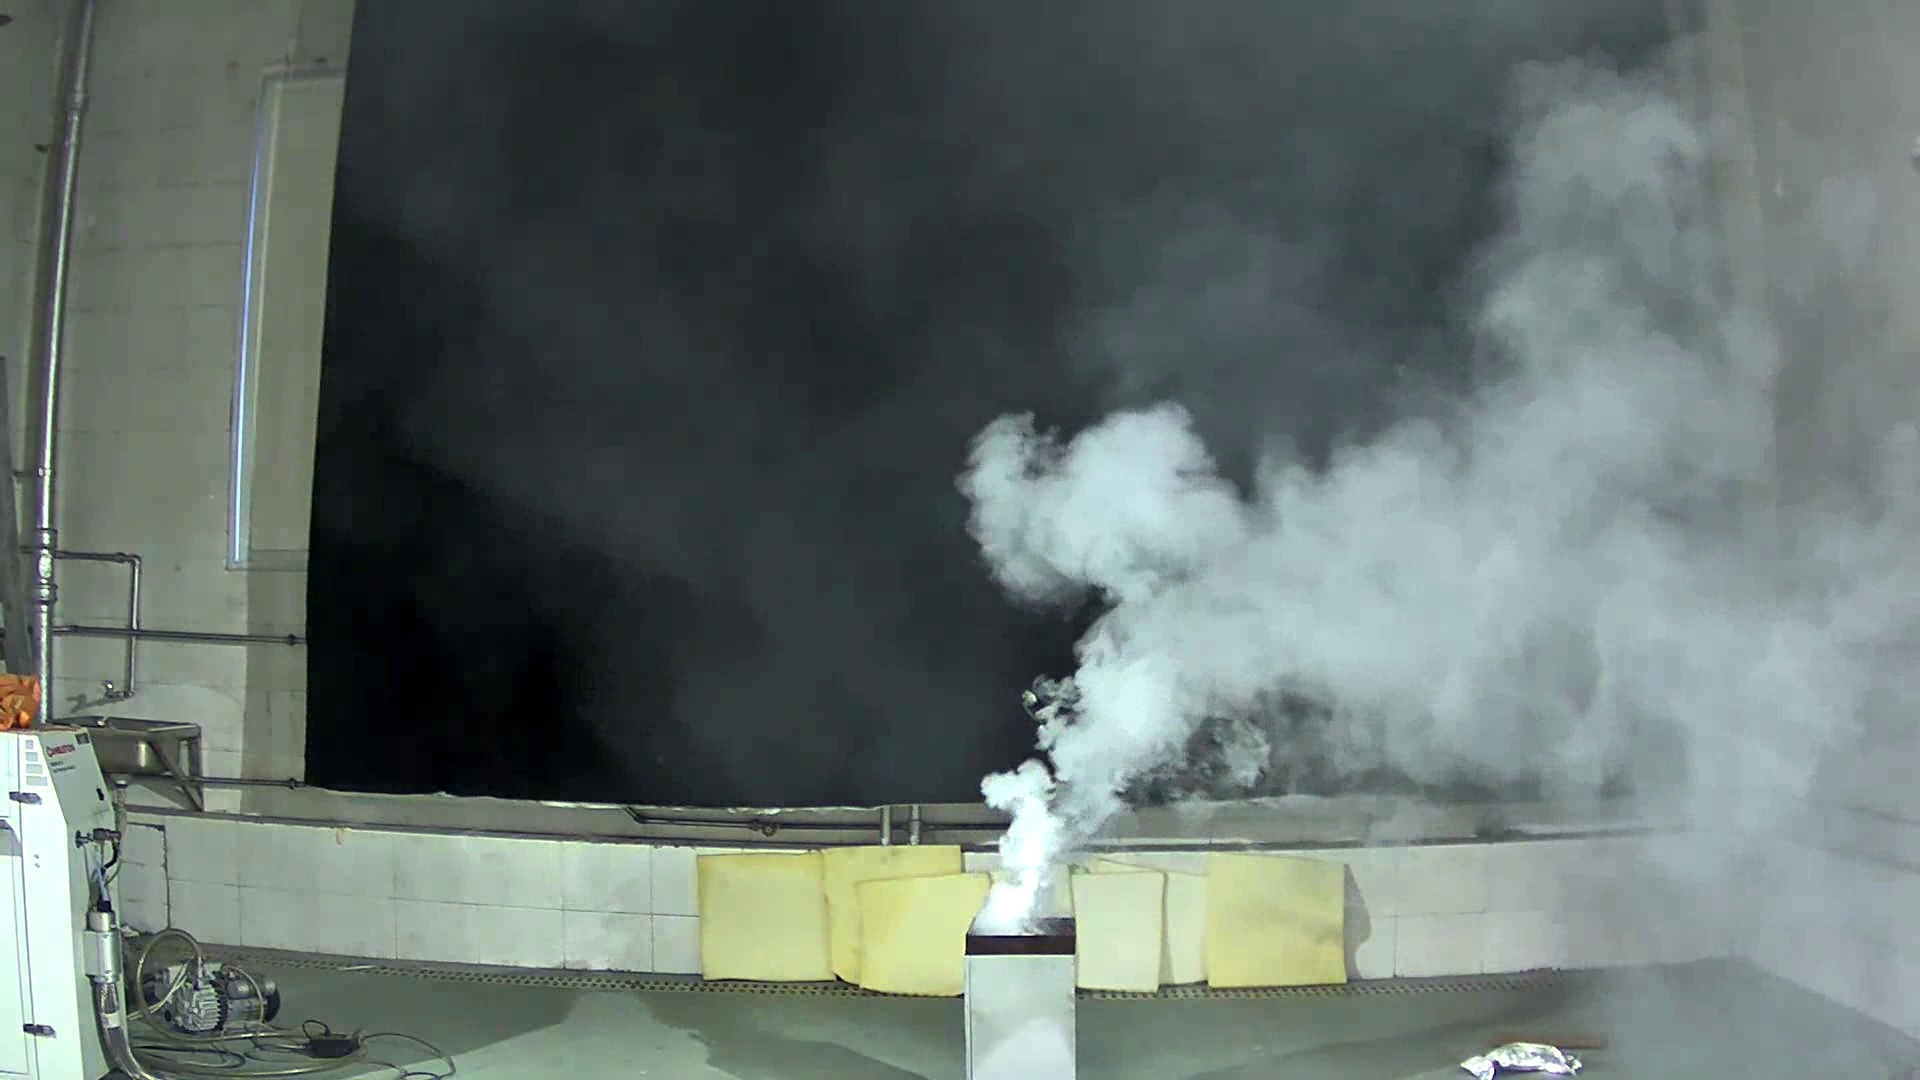smoke: (916, 20, 1821, 938)
